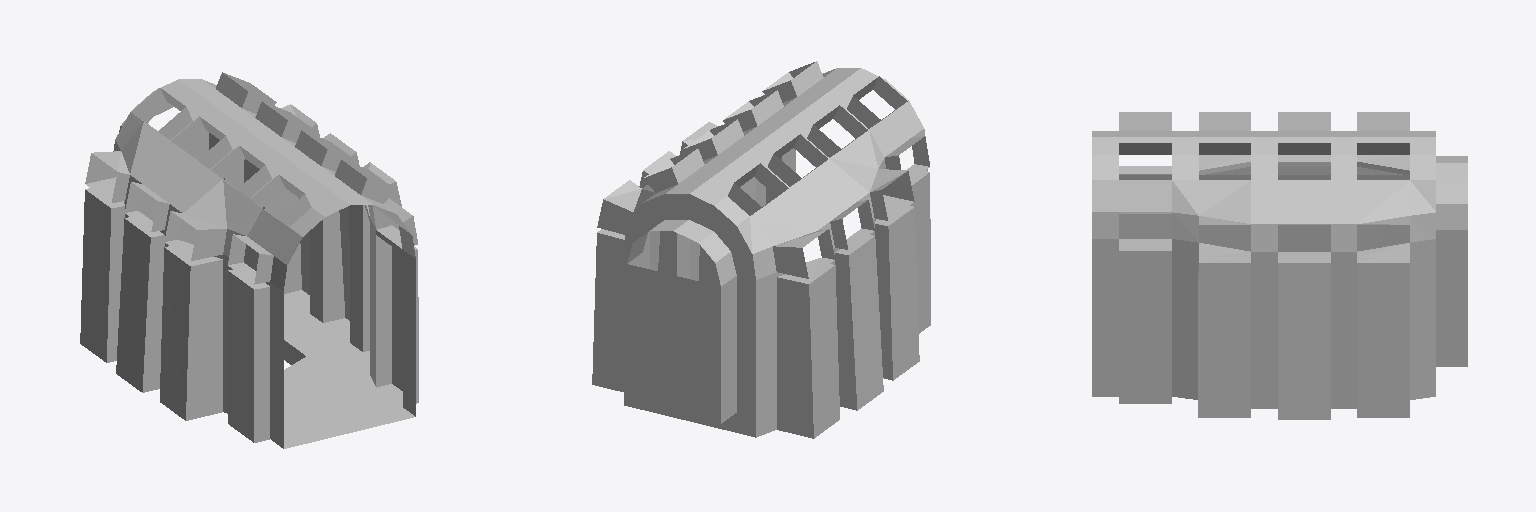
The model's file is Room_01.obj.
3 renders of one model, left to right at view 1: azimuth 30°, elevation 25°; view 2: azimuth 150°, elevation 25°; view 3: azimuth 270°, elevation 25°, orthographic.
Visible parts, largest first — view 1: Room_02:group3; view 2: Room_02:group3; view 3: Room_02:group3.
Boxes of the visible parts, x1,y1,x2,y2 form: Room_02:group3: [80, 72, 418, 448]; Room_02:group3: [592, 61, 930, 438]; Room_02:group3: [1092, 112, 1467, 419].
Size of the model in its own units: 1002 by 1074 by 1422.